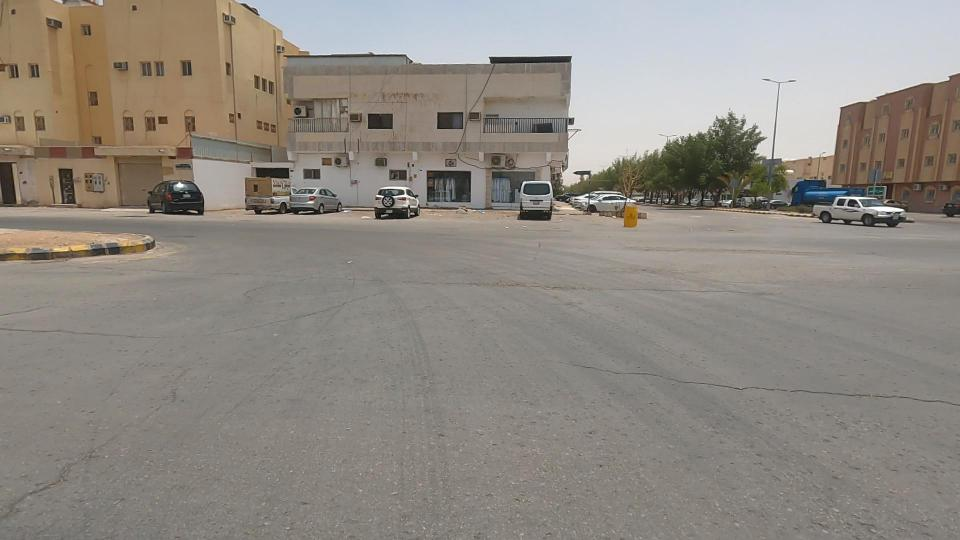POTHOLES: (469, 248, 621, 325)
